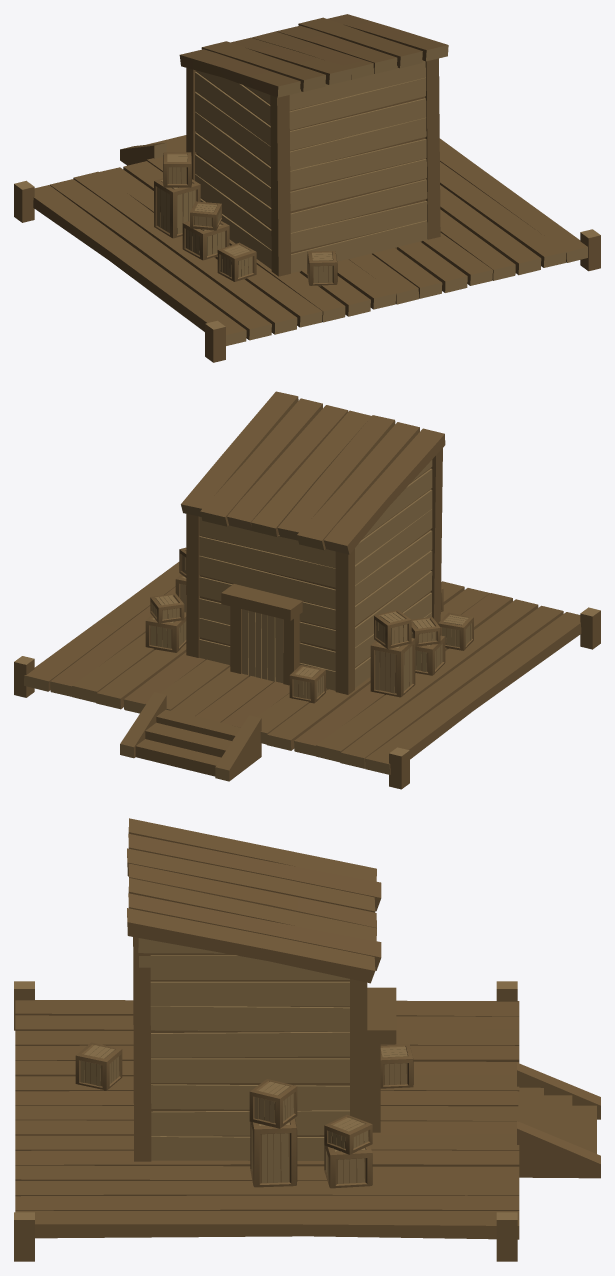
File: storage_hut.fbx
3 renders of one model, top to bottom at view 1: azimuth 30°, elevation 25°; view 2: azimuth 150°, elevation 25°; view 3: azimuth 270°, elevation 25°, orthographic. The views are drawn at different scales.
Visible parts, largest first — view 1: Storage_FirstAge_Level1; view 2: Storage_FirstAge_Level1; view 3: Storage_FirstAge_Level1.
Part boxes in pixels (left/top/right/bottom): Storage_FirstAge_Level1: left=14, top=14, right=600, bottom=362; Storage_FirstAge_Level1: left=14, top=391, right=600, bottom=789; Storage_FirstAge_Level1: left=14, top=818, right=600, bottom=1261.
Size of the model in its own units: 0.9621 by 0.5193 by 1.
